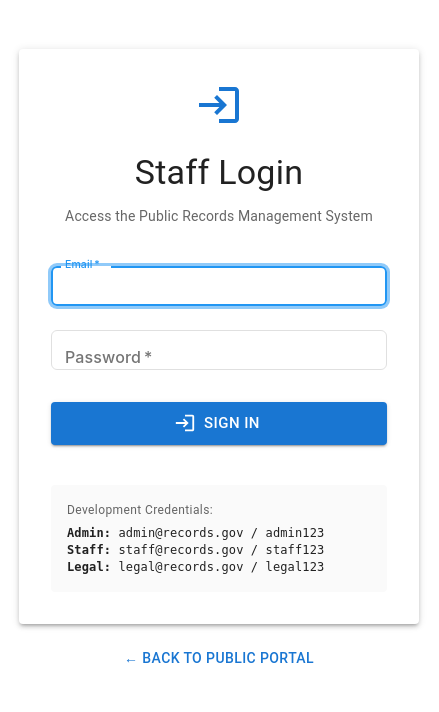
Test case: LoginPage › shows error for wrong password with valid email
Type "admin@records.gov" into the field labelled "Email *" at point(219, 286), box x1=51 y1=263 x2=387 y2=310
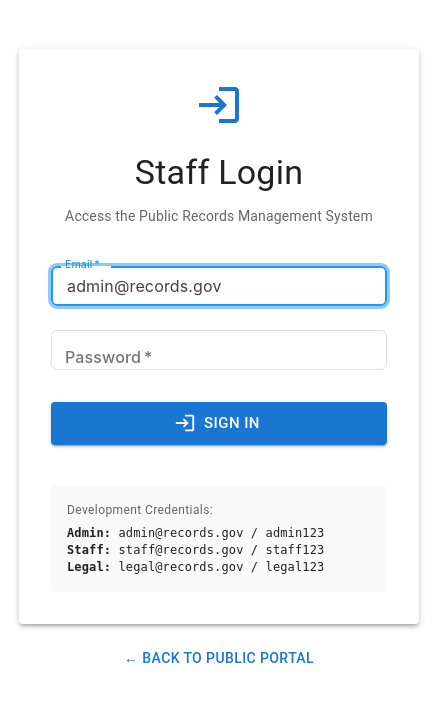
Type "wrongpassword" into the password field labelled "Password *" at point(219, 350), box x1=51 y1=327 x2=387 y2=374
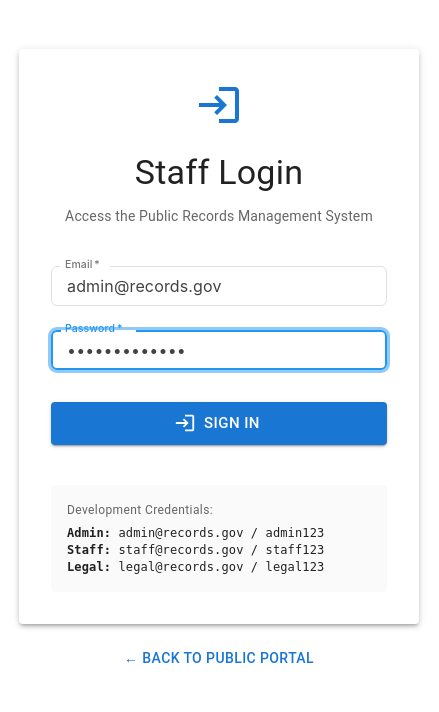
Click the button "Sign In" at point(219, 423), box x1=51 y1=402 x2=387 y2=445
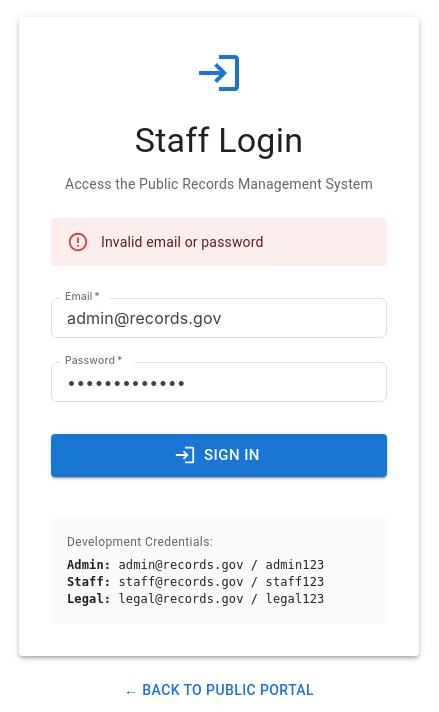
Now the text "Invalid email or password" is shown, box x1=101 y1=234 x2=264 y2=250
